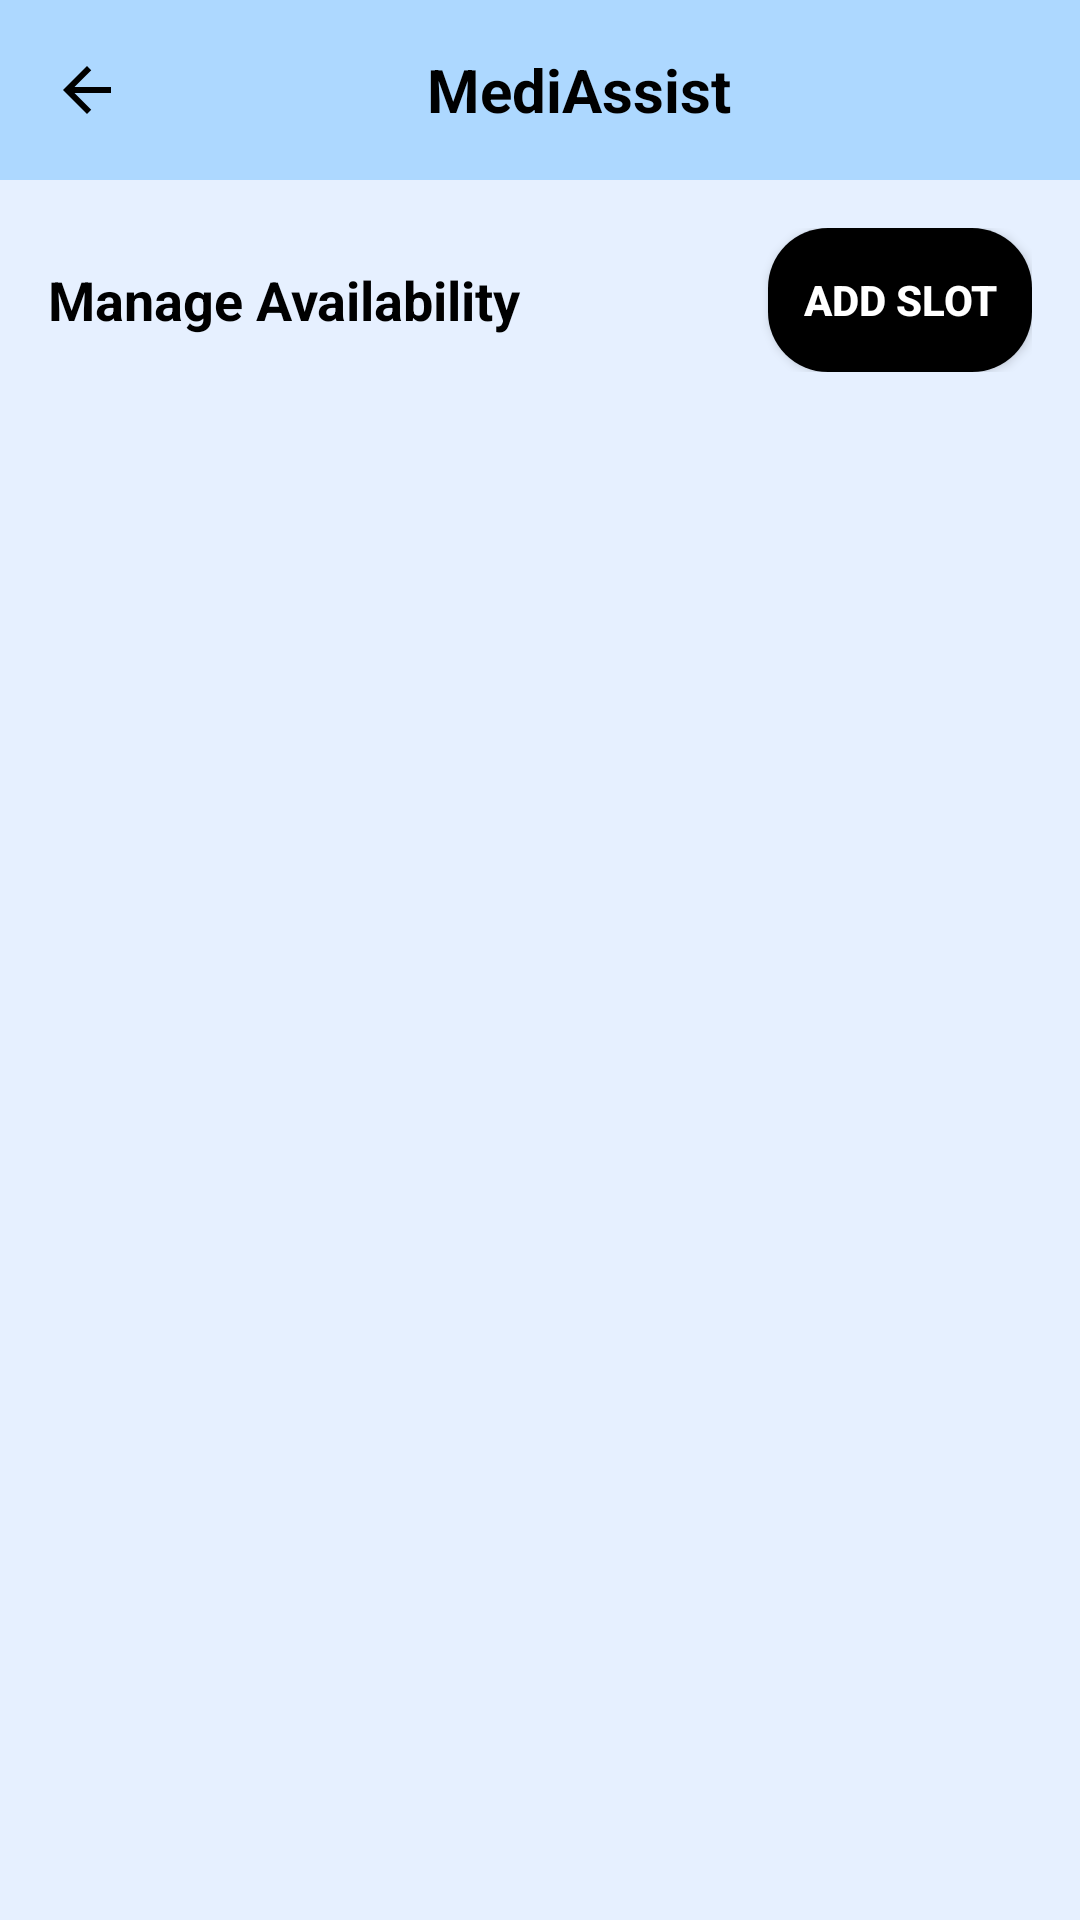

Point at icon controls on the screen. Image size 1080px×1920px, points as [x,y].
Back: [87,90]
